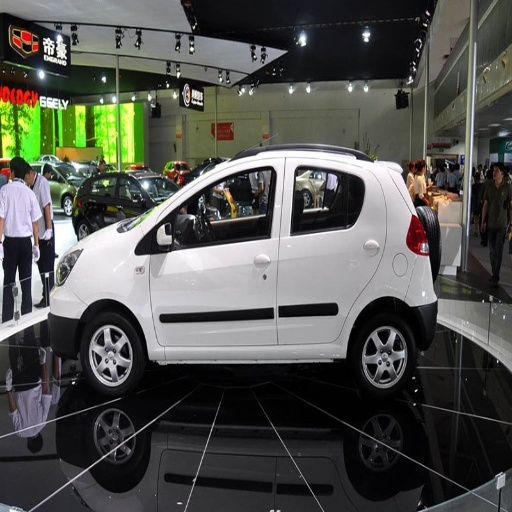back_left_door: (277, 160, 382, 344)
front_left_door: (149, 164, 283, 353)
